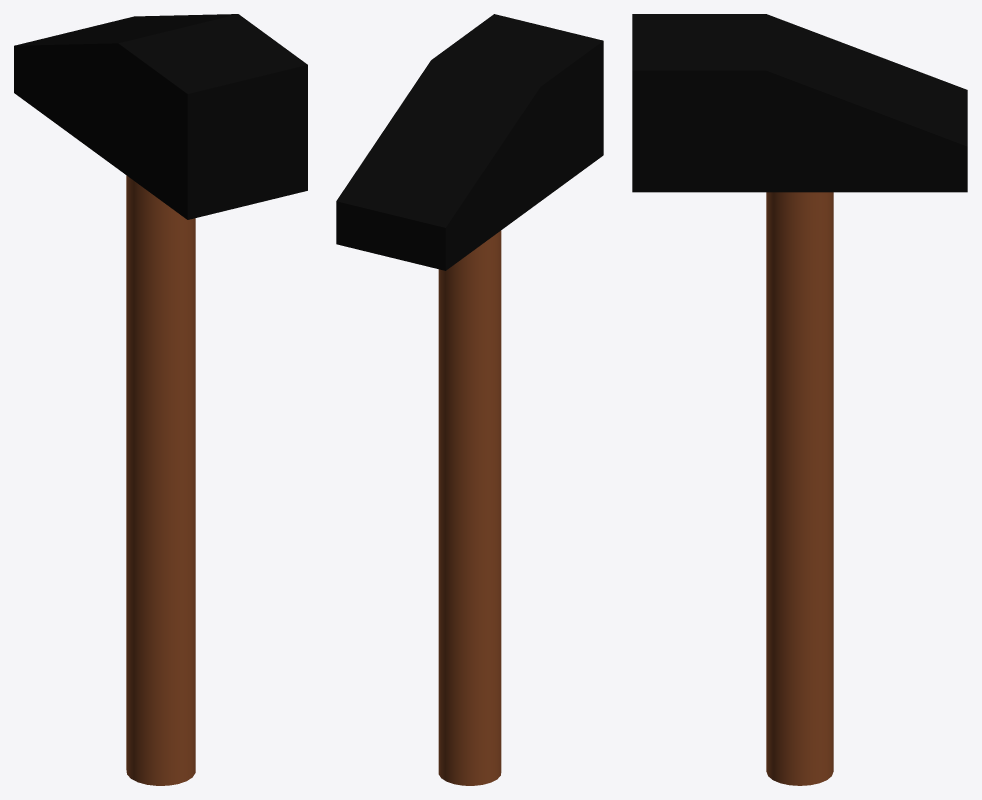
The model's file is Hammer.glb.
The picture shows the model from 3 angles, left to right: view 1: azimuth 30°, elevation 25°; view 2: azimuth 150°, elevation 25°; view 3: azimuth 270°, elevation 25°; orthographic projection. The views are drawn at different scales.
Parts seen in each view (by area): view 1: Solide1; view 2: Solide1; view 3: Solide1.
Boxes of the visible parts, x1,y1,x2,y2 form: Solide1: (14, 14, 307, 785); Solide1: (336, 14, 603, 785); Solide1: (632, 14, 967, 785).
Bounding box in the file's own units: 0.04 × 0.24 × 0.1.
